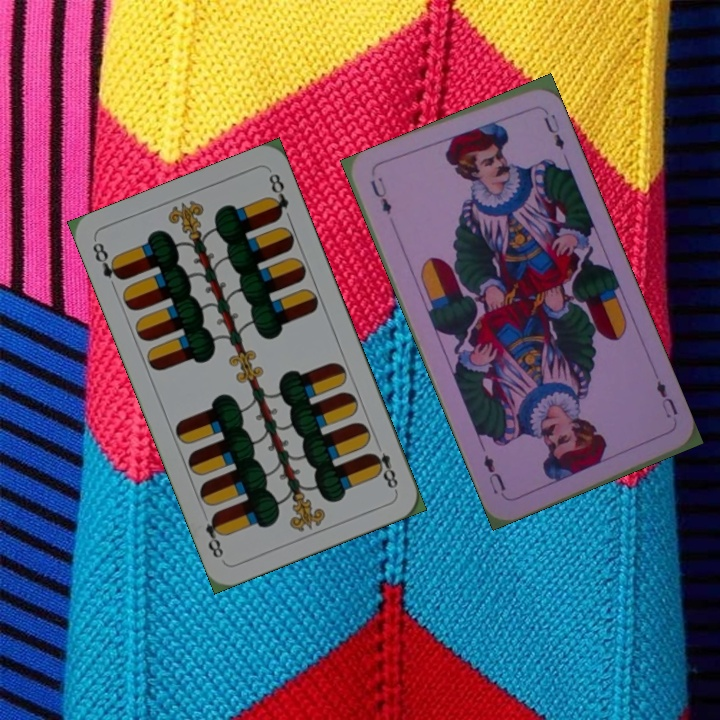E8: (88, 238, 126, 283), (366, 448, 401, 494)
EU: (652, 376, 680, 427), (366, 173, 395, 217)
